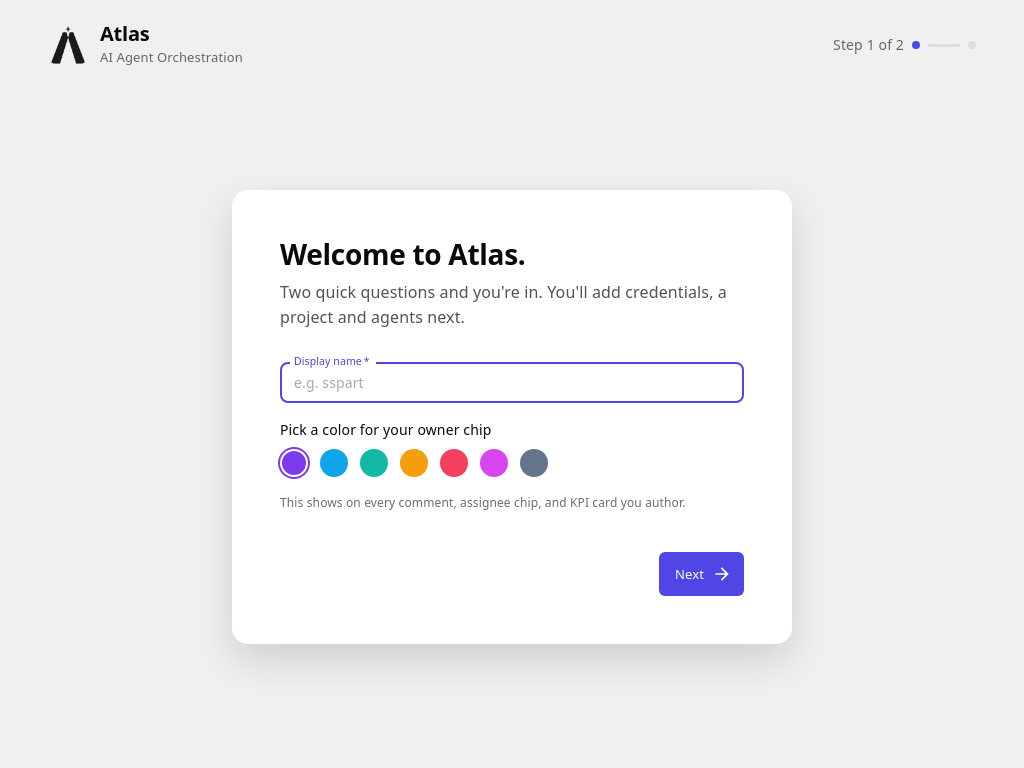
Test case: Onboarding — Step 1 › shows validation error when Next is clicked with empty name
Expected: the text "Welcome to Atlas." is shown, [280,235,526,273]
Click the button "Next": (702, 574) [659,552,744,596]
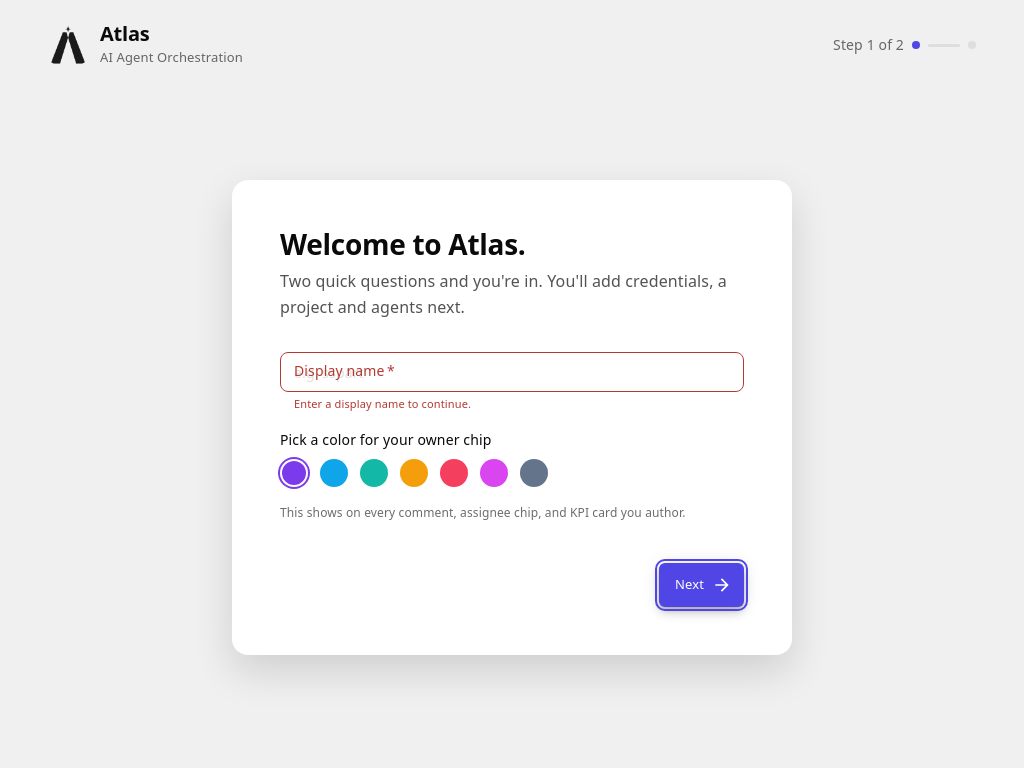
Result: the text "Enter a display name to continue." is shown at [294,396,471,411]
